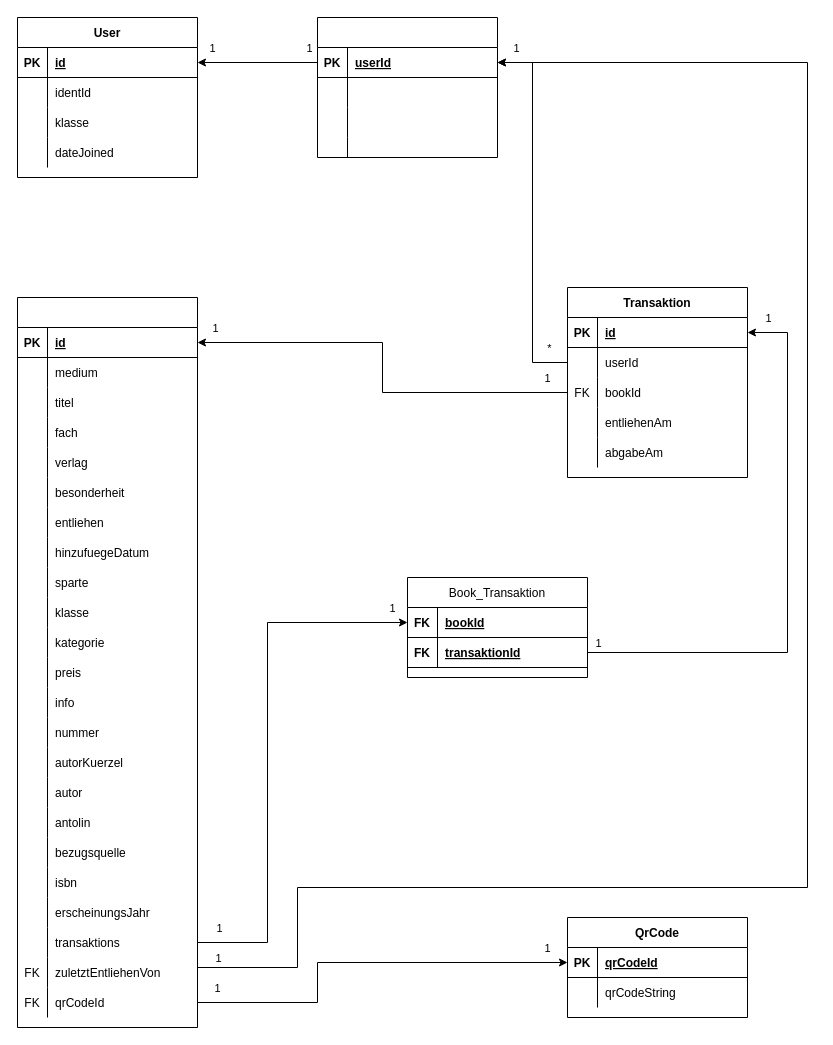
This 833x1045 diagram has some shape labels left out. Here are the shapes that lost their labels. From the top down, the box of each, then its label:
(316, 16, 498, 158): Account
(16, 296, 198, 1028): Book
